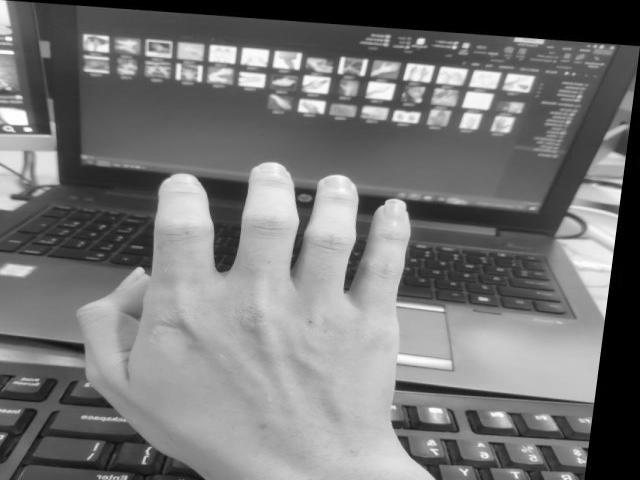not-gloved: (74, 156, 412, 459)
